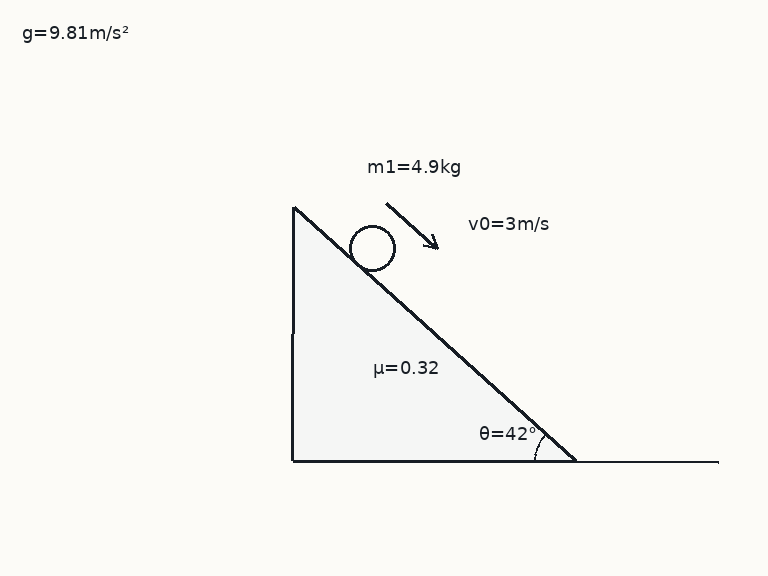ball: (347, 223, 397, 273)
ramp: (291, 205, 577, 463)
